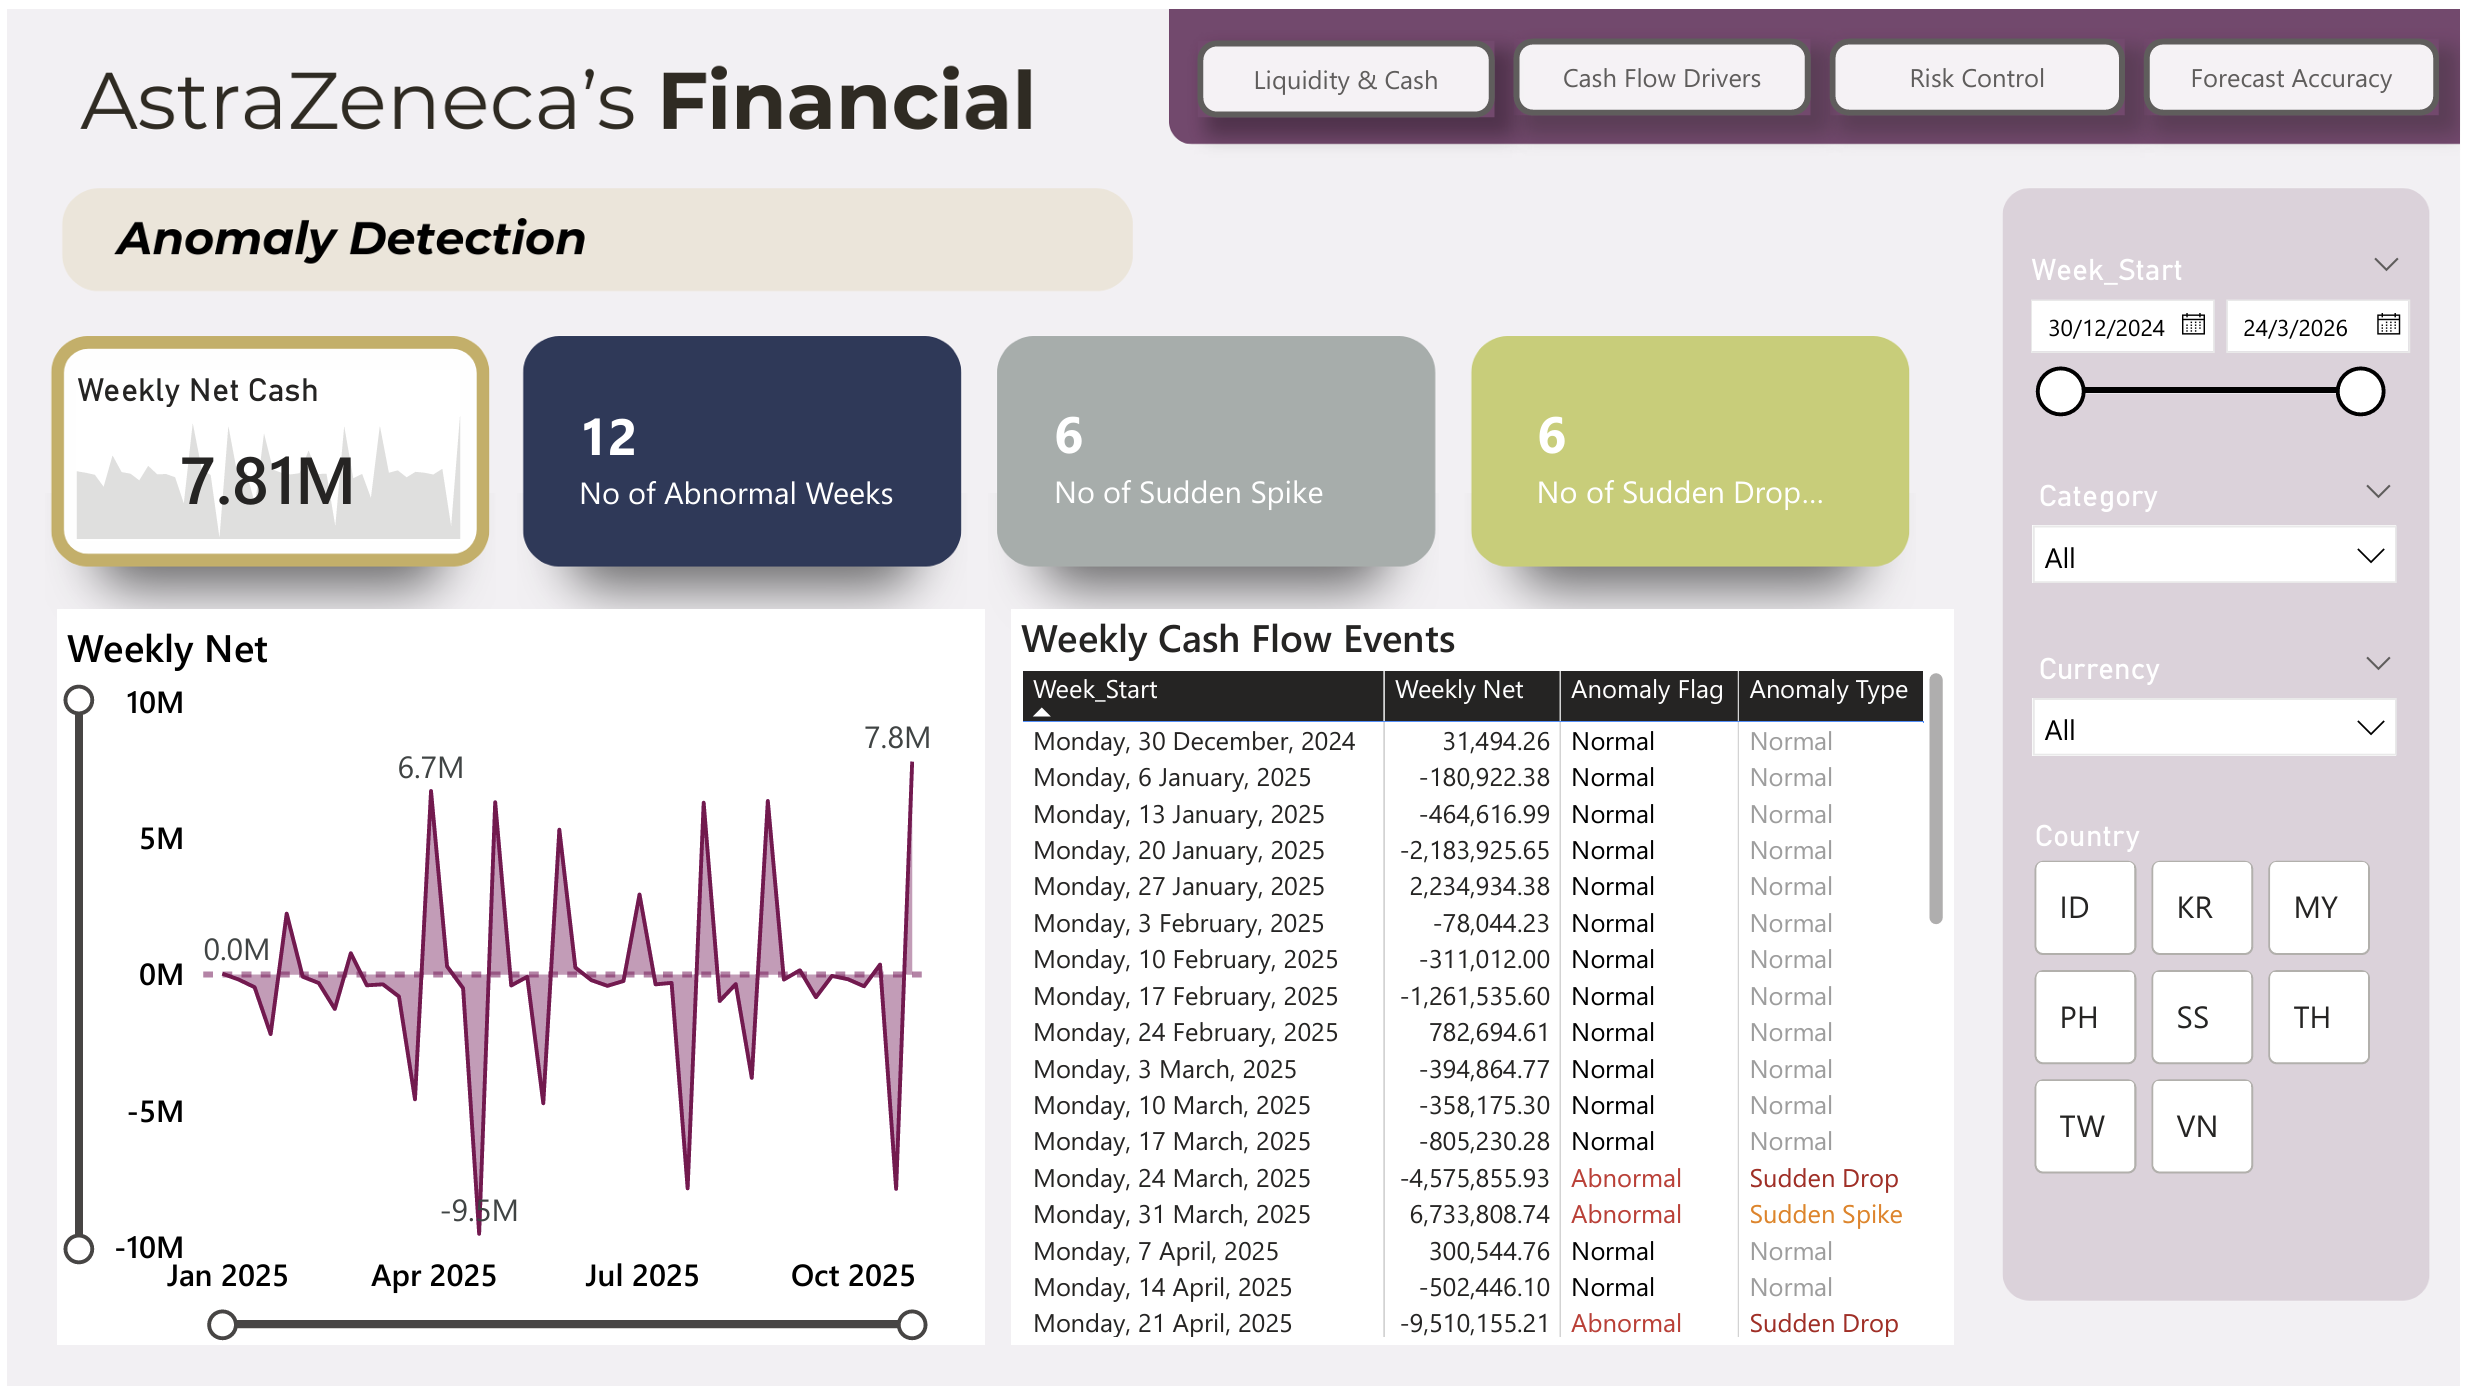

The page's visual inventory and layout, read from the dashboard file:
{"tool":"powerbi","page":{"name":"3 - Anomaly & Trust","canvas":[1280,720],"ordinal":2},"visuals":[{"type":"actionButton","title":"Liquidity & Cash","box":[621.4,15.7,154.3,40],"z":0},{"type":"actionButton","title":"Liquidity & Cash","box":[786.4,15,154.3,40],"z":1000},{"type":"actionButton","title":"Liquidity & Cash","box":[950.7,15,154.3,40],"z":2000},{"type":"actionButton","title":"Liquidity & Cash","box":[1115,15,154.3,40],"z":3000},{"type":"slicer","title":"Date","fields":{"Values":["Dim - DateTable.Week_Start"]},"box":[1047.1,120,210,150],"z":4000},{"type":"slicer","fields":{"Values":["Dim - Category.Category"]},"box":[1047.1,238.6,210,64.3],"z":5000},{"type":"slicer","fields":{"Values":["Dim - Branch.Currency"]},"box":[1047.1,328.6,210,64.3],"z":6000},{"type":"advancedSlicerVisual","title":"Country","fields":{"Values":["Dim - Branch.Country Code"]},"box":[1052.9,421.4,185.7,192.9],"z":7000},{"type":"kpi","title":"Weekly Net Cash","fields":{"TrendLine":["Dim - DateTable.Week_Start"],"Indicator":["Fact - Transactions.Net Cash Flow"]},"box":[35.8,188.3,200,88.3],"z":8000},{"type":"cardVisual","fields":{"Data":["MyMeasures.No of Abnormal Weeks"]},"box":[275.8,177.5,213.3,110],"z":9000},{"type":"lineChart","title":"Weekly Net ","fields":{"Category":["Dim - DateTable.Week_Start"],"Y":["MyMeasures.Weekly Net"]},"box":[25.7,312.9,484.3,384.3],"z":10000},{"type":"tableEx","title":"Weekly Cash Flow Events","fields":{"Values":["Fact - Transactions.Week_Start","MyMeasures.Weekly Net","MyMeasures.Anomaly Flag","MyMeasures.Anomaly Type"]},"box":[524.3,312.9,491.4,384.3],"z":11000},{"type":"cardVisual","fields":{"Data":["MyMeasures.No of Sudden Spike Weeks"]},"box":[524.3,177.1,212.9,110],"z":12000},{"type":"cardVisual","fields":{"Data":["MyMeasures.No of Sudden Drop Weeks"]},"box":[775.7,177.1,212.9,110],"z":13000}]}

Visuals, with their boxes in screenshot pixels (x1, y1, x2, y2), scaled from the page's 1280x720 canvas onto the 2474x1399 screenshot:
"Liquidity & Cash" actionButton: select_region(1201, 31, 1499, 108)
"Liquidity & Cash" actionButton: select_region(1520, 29, 1818, 107)
"Liquidity & Cash" actionButton: select_region(1838, 29, 2136, 107)
"Liquidity & Cash" actionButton: select_region(2155, 29, 2453, 107)
"Date" slicer: select_region(2024, 233, 2430, 525)
slicer - Dim - Category.Category: select_region(2024, 464, 2430, 589)
slicer - Dim - Branch.Currency: select_region(2024, 638, 2430, 763)
"Country" advancedSlicerVisual: select_region(2035, 819, 2394, 1194)
"Weekly Net Cash" kpi: select_region(69, 366, 456, 537)
cardVisual - MyMeasures.No of Abnormal Weeks: select_region(533, 345, 945, 559)
"Weekly Net " lineChart: select_region(50, 608, 986, 1355)
"Weekly Cash Flow Events" tableEx: select_region(1013, 608, 1963, 1355)
cardVisual - MyMeasures.No of Sudden Spike Weeks: select_region(1013, 344, 1425, 558)
cardVisual - MyMeasures.No of Sudden Drop Weeks: select_region(1499, 344, 1911, 558)
